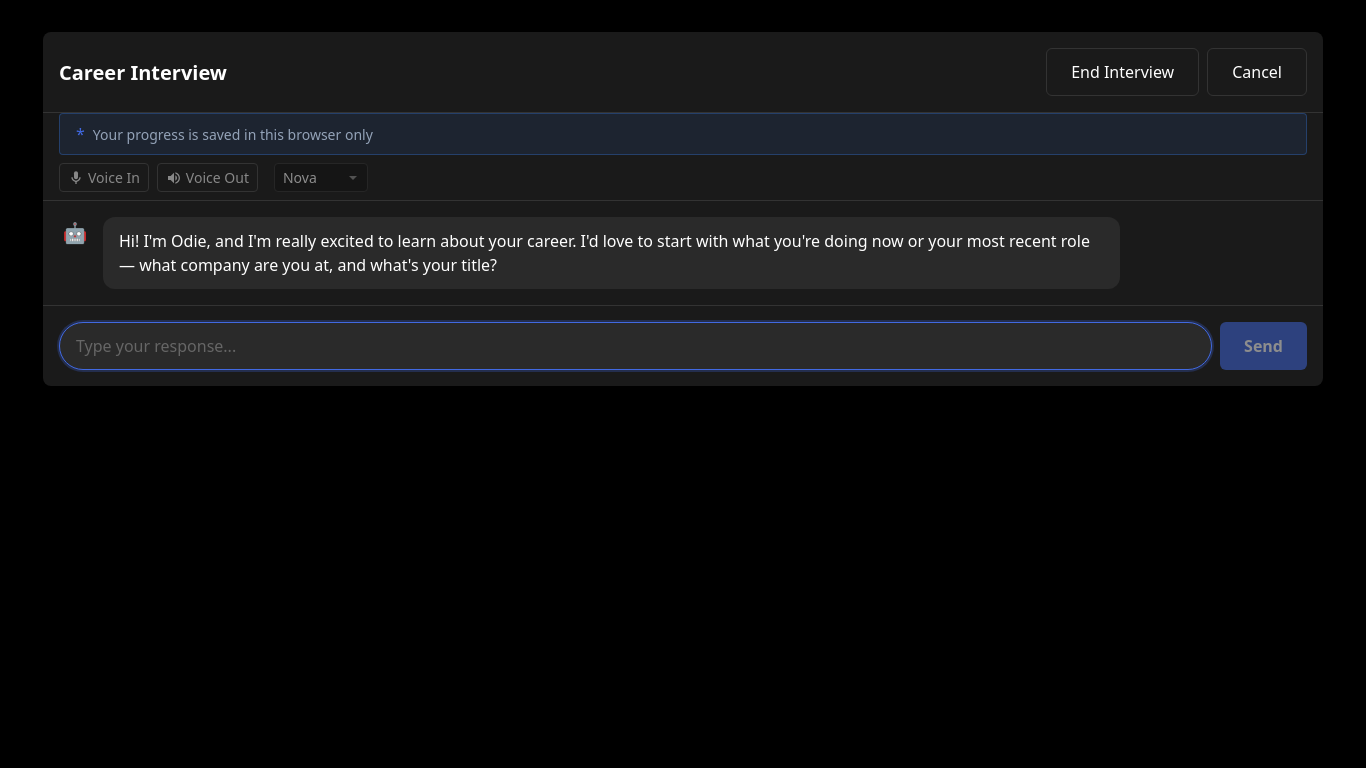
Test: InterviewChat Phase 1 voice changes › isTranscribing guard › allows submit via Enter when isTranscribing is false
Step 1. Type "Hello there" into the field with test id "interview-input" → (636, 346), box left=59, top=322, right=1212, bottom=370
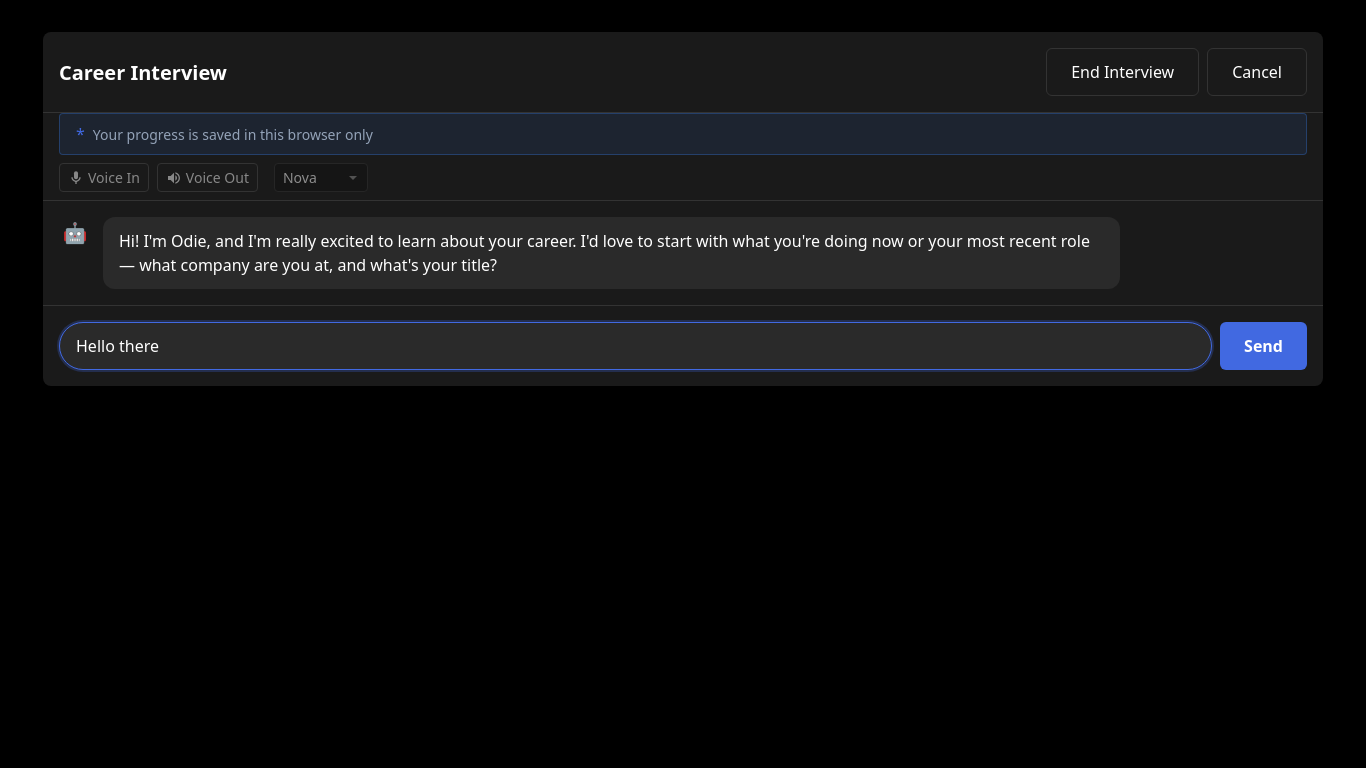
Step 2. Click the button with test id "interview-send" → (1264, 346), box left=1220, top=322, right=1307, bottom=370
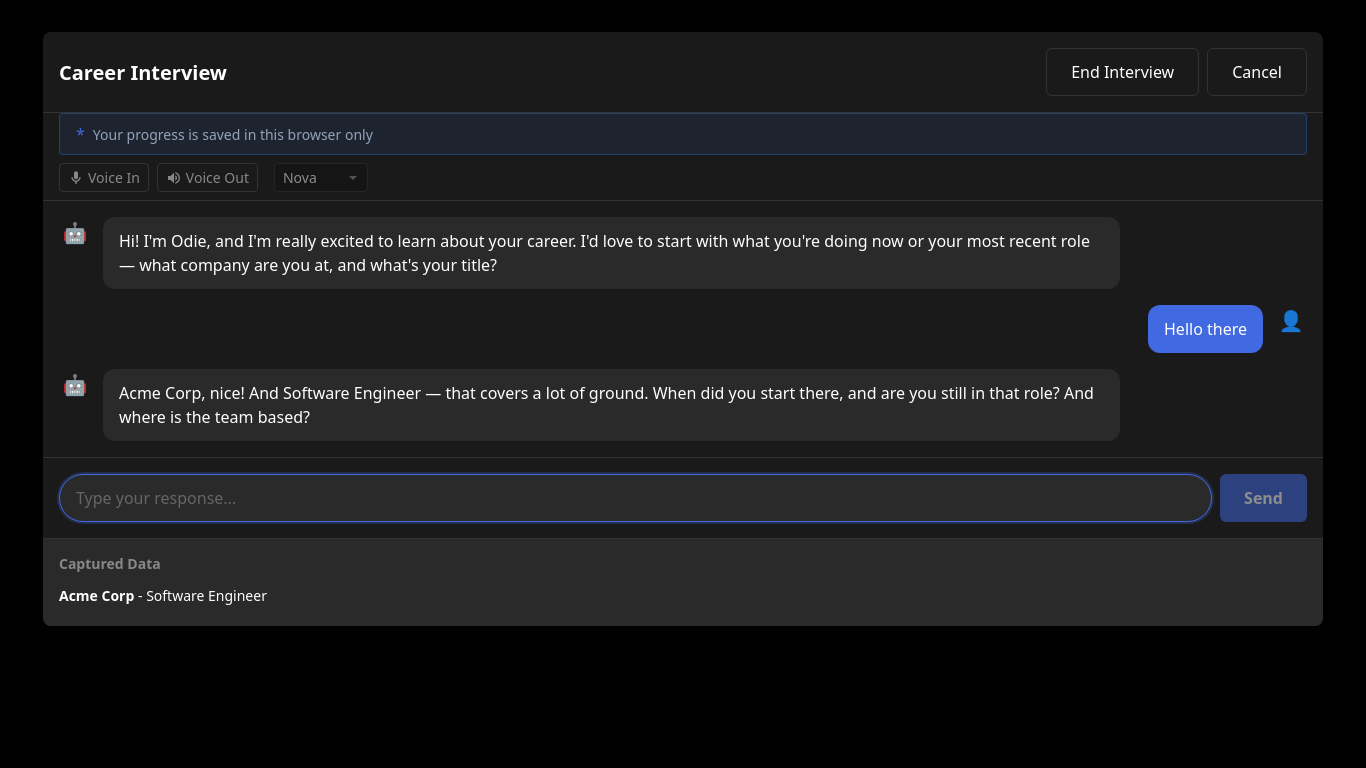
Result: the text "Hello there" is shown at left=1148, top=305, right=1263, bottom=353
